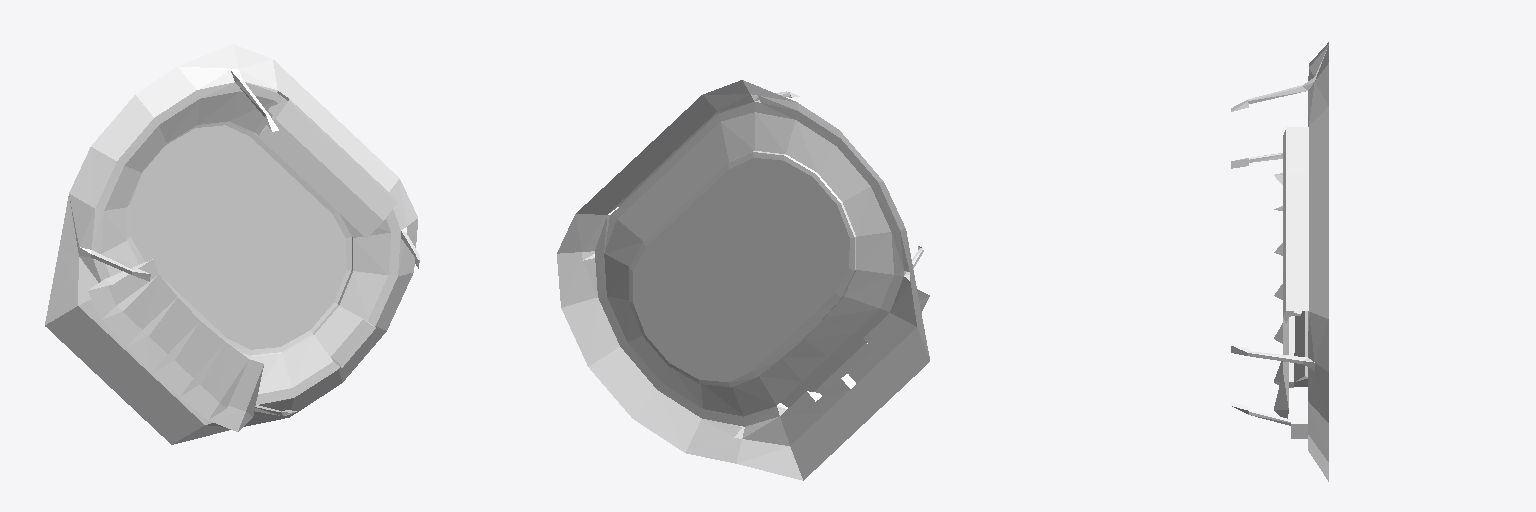
File: DEU_609_KARLSRUHE_WILDPAR_S.OBJ
3 renders of one model, left to right at view 1: azimuth 30°, elevation 25°; view 2: azimuth 150°, elevation 25°; view 3: azimuth 270°, elevation 25°, orthographic.
Parts seen in each view (by area): view 1: DEU_609_KARLSRUHE_WILDPAR_S:DEU_609_KARLSRUHE_WILDPAR; view 2: DEU_609_KARLSRUHE_WILDPAR_S:DEU_609_KARLSRUHE_WILDPAR; view 3: DEU_609_KARLSRUHE_WILDPAR_S:DEU_609_KARLSRUHE_WILDPAR.
Boxes of the visible parts, box(x1,y1,x2,y2) form: DEU_609_KARLSRUHE_WILDPAR_S:DEU_609_KARLSRUHE_WILDPAR: box(45, 44, 419, 444); DEU_609_KARLSRUHE_WILDPAR_S:DEU_609_KARLSRUHE_WILDPAR: box(557, 80, 929, 480); DEU_609_KARLSRUHE_WILDPAR_S:DEU_609_KARLSRUHE_WILDPAR: box(1231, 42, 1328, 481).
Bounding box in the file's own units: 218 × 216 × 49.47.